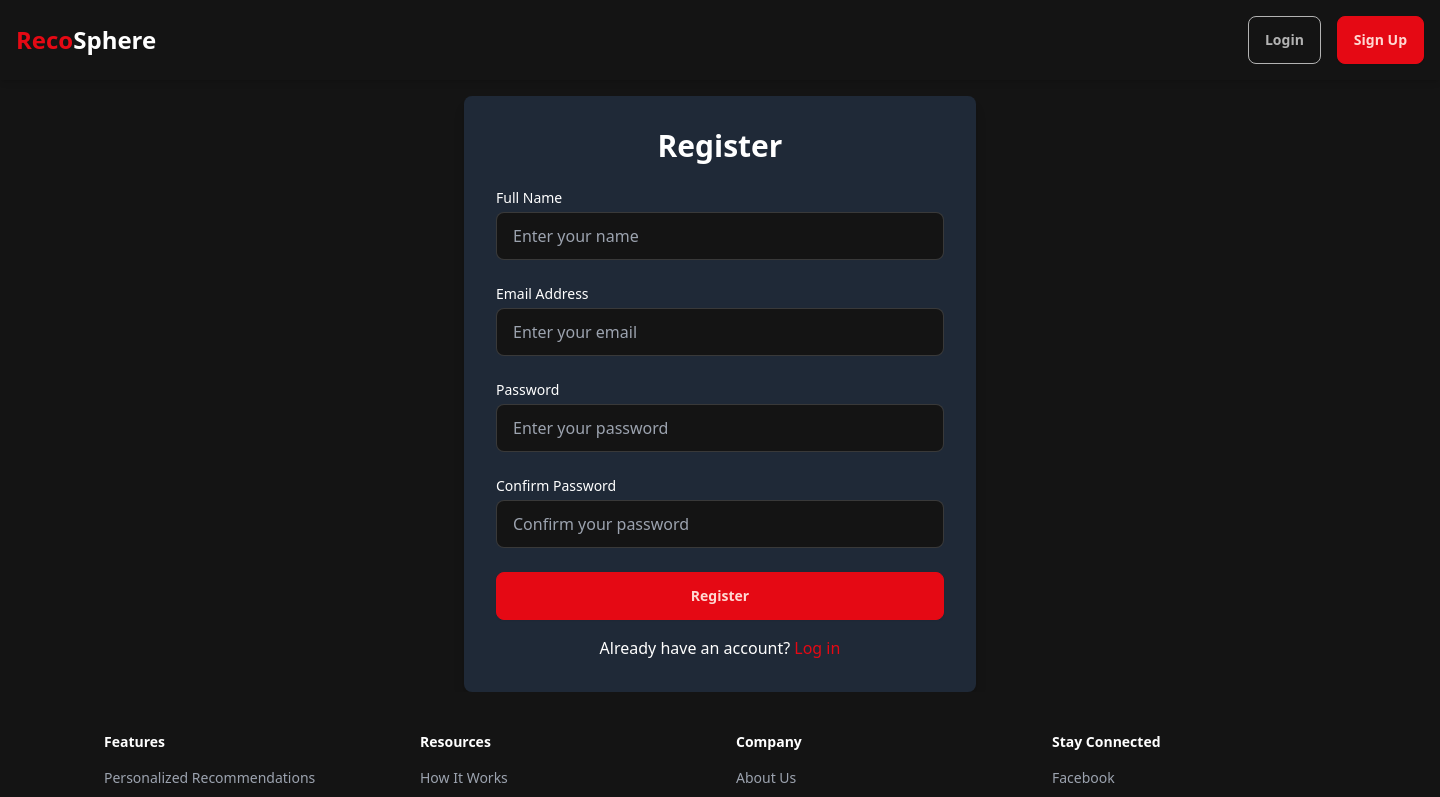
Test: Register Component › displays validation error if fields are empty
Click the button "Register" at (720, 596), box [496,572,944,620]
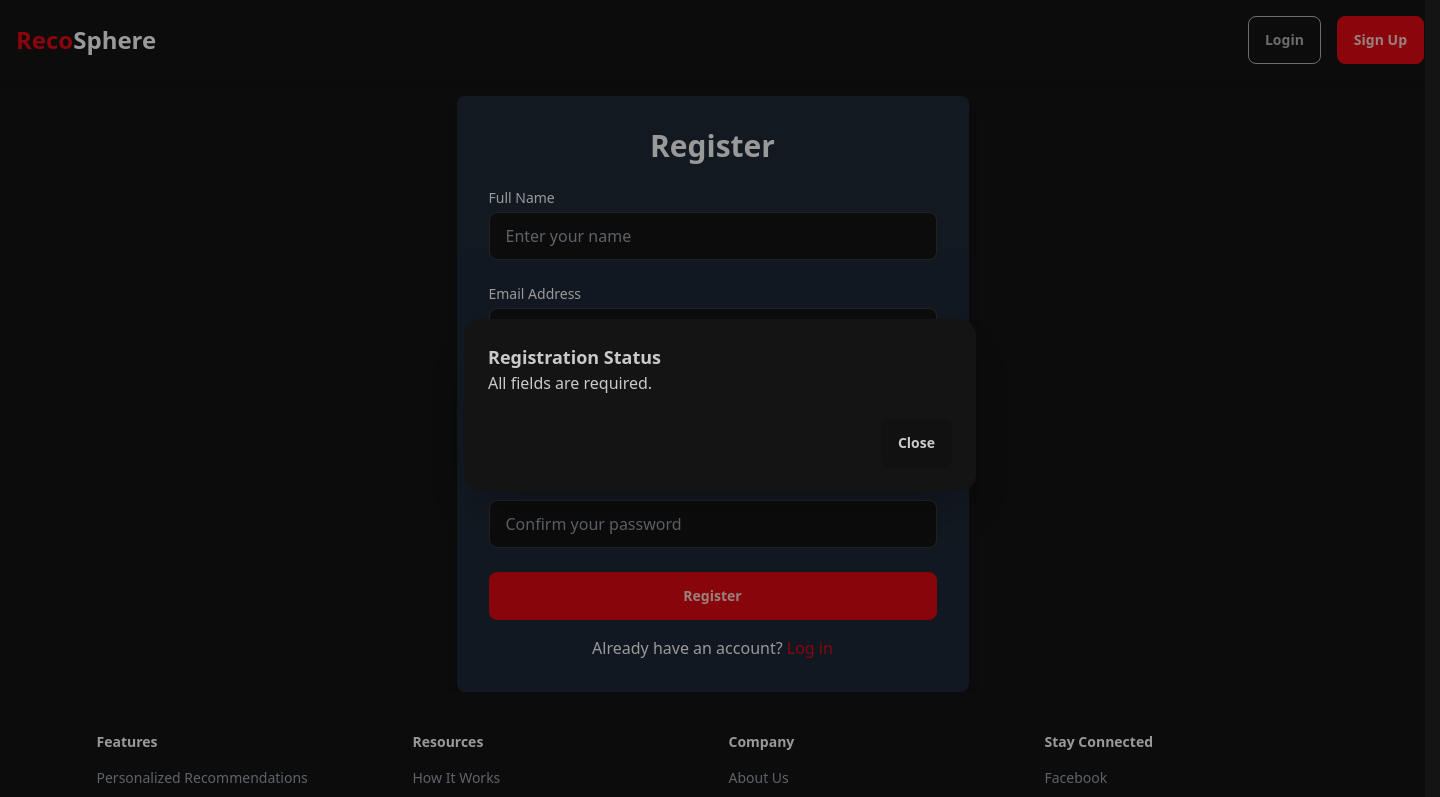
Expected: the text "All fields are required." is shown, [488,372,652,394]
